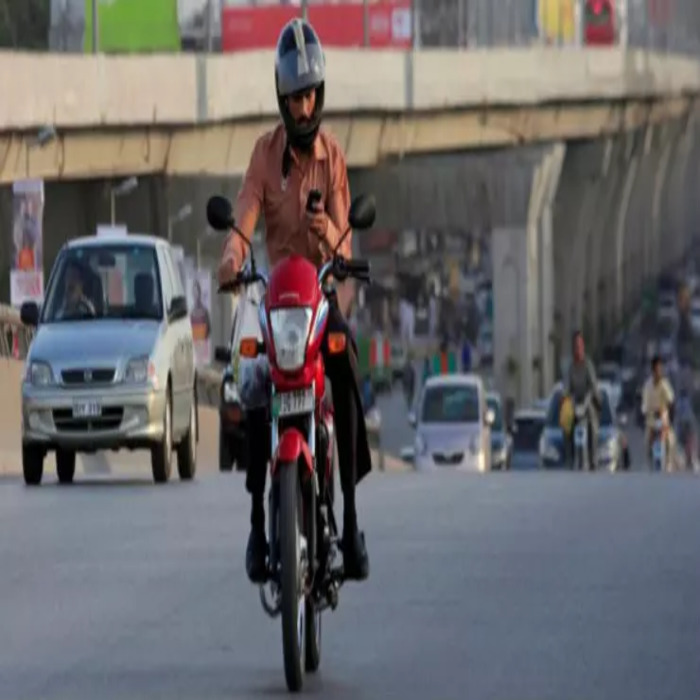h: (272, 18, 327, 156)
n: (270, 384, 316, 419), (67, 397, 107, 419)
